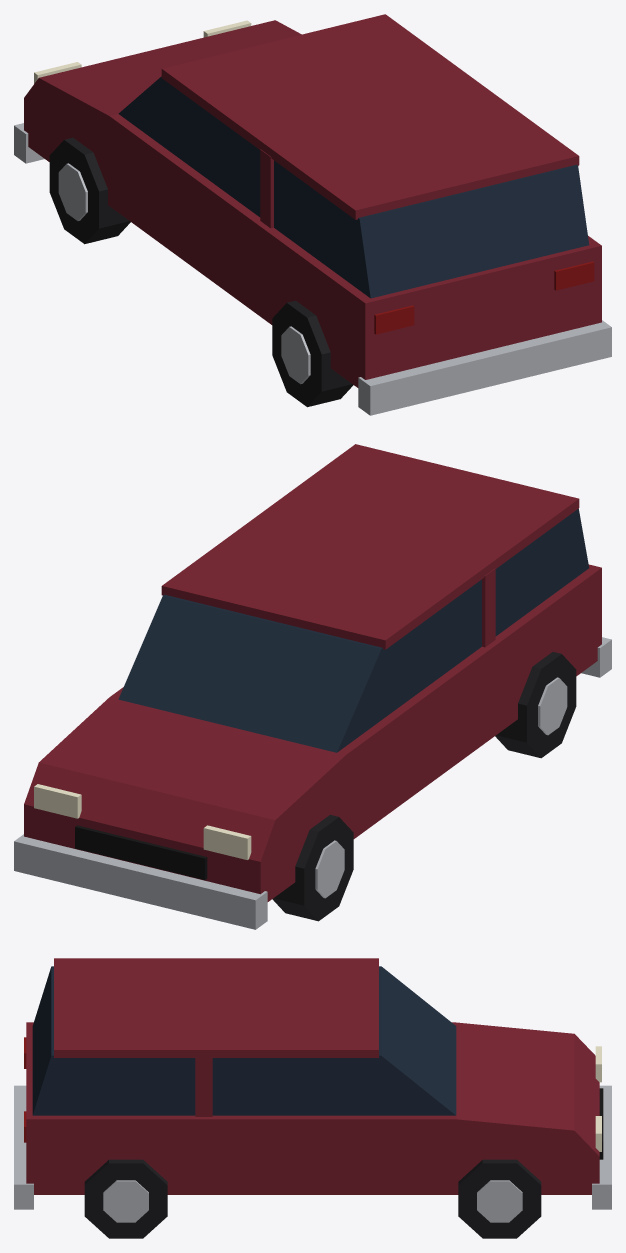
File: CarWagonMaroon.obj
3 views of the same model, one above another, from view 1: azimuth 30°, elevation 25°; view 2: azimuth 150°, elevation 25°; view 3: azimuth 270°, elevation 25° (orthographic). The views are drawn at different scales.
Visible parts, largest first — view 1: CarWagonMaroon; view 2: CarWagonMaroon; view 3: CarWagonMaroon.
Part boxes in pixels (x1,y1,x2,y2): CarWagonMaroon: [14, 14, 611, 415]; CarWagonMaroon: [14, 444, 611, 929]; CarWagonMaroon: [14, 958, 611, 1238].
Size of the model in its own units: 2.01 by 1.61 by 4.8.
Materials: 1 (1 with a texture image).
